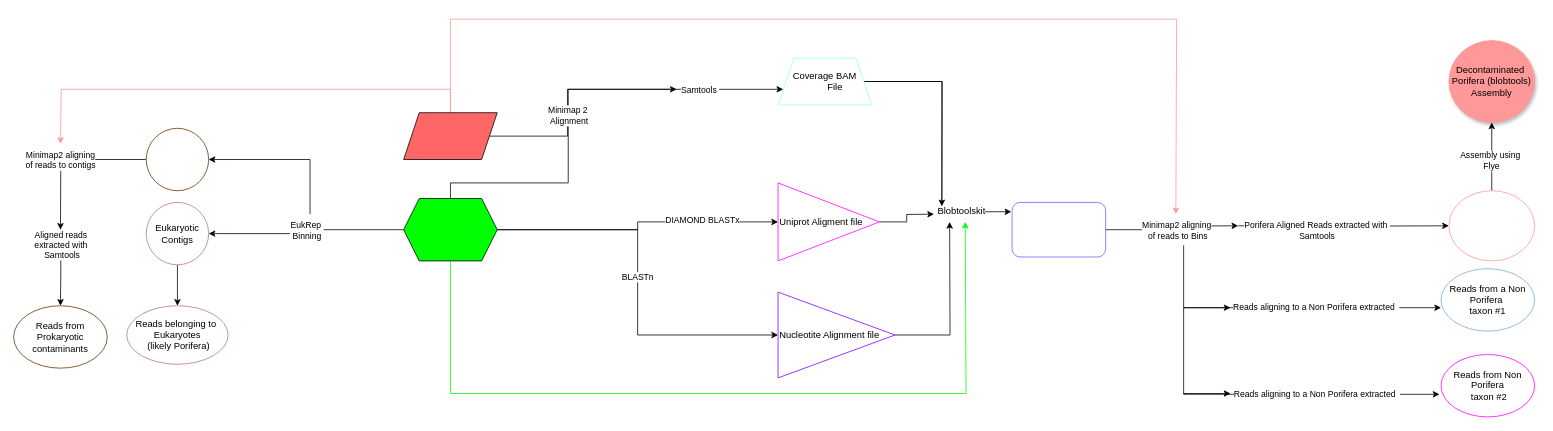
Image size: 1553x431. Some labels were removed from this diagram. Here are the shapes that lost their labels. From the top down, the centre of each, then its label:
At point 450,136: "Raw Nanopore Reads".
At point 177,159: "Prokaryotic Contigs".
At point 450,229: "Final Assembly".
At point 1058,229: "Blobtools Taxonomic Bins".
At point 1491,225: "Porifera Reads".
